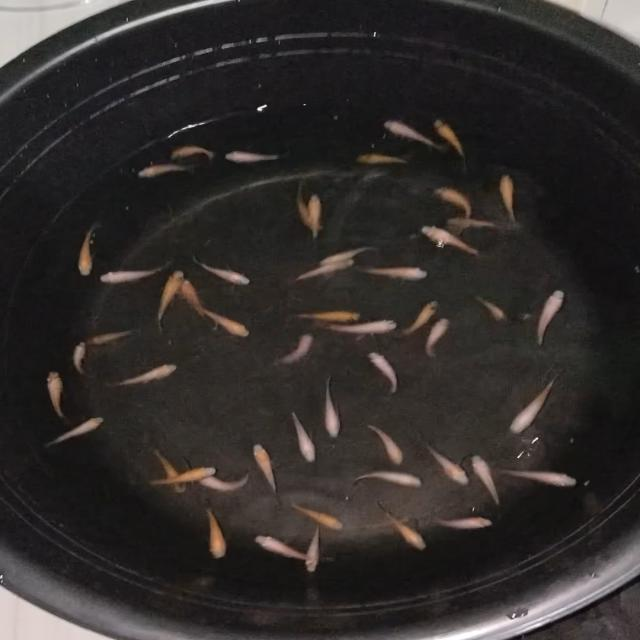nila: (508, 372, 564, 436), (414, 442, 472, 486), (39, 416, 104, 453), (379, 504, 429, 552), (254, 533, 324, 566), (470, 452, 506, 514), (381, 119, 444, 154), (532, 288, 567, 350), (418, 224, 483, 256), (107, 362, 180, 390), (388, 298, 440, 336), (194, 254, 254, 286), (154, 268, 184, 331), (286, 258, 358, 284), (364, 423, 406, 467), (433, 118, 467, 172), (352, 261, 428, 285), (96, 262, 172, 286), (42, 370, 76, 423), (364, 348, 399, 398), (199, 305, 252, 338), (252, 441, 282, 499), (284, 503, 342, 532), (444, 212, 516, 235), (144, 466, 218, 488), (497, 467, 582, 486), (346, 470, 426, 490), (288, 410, 318, 463), (314, 316, 400, 334), (275, 331, 315, 369), (322, 376, 345, 442), (202, 501, 228, 559), (432, 184, 472, 220), (296, 180, 322, 235), (499, 171, 524, 227), (155, 447, 183, 497), (76, 222, 100, 280), (421, 316, 452, 360), (318, 244, 379, 266), (281, 308, 365, 323), (180, 277, 206, 322), (430, 512, 495, 530), (470, 294, 508, 323), (81, 328, 138, 347), (192, 472, 251, 490), (304, 520, 324, 573), (130, 163, 198, 178), (223, 150, 294, 164), (164, 144, 216, 162), (305, 194, 324, 242), (357, 152, 414, 165), (71, 342, 90, 378)
